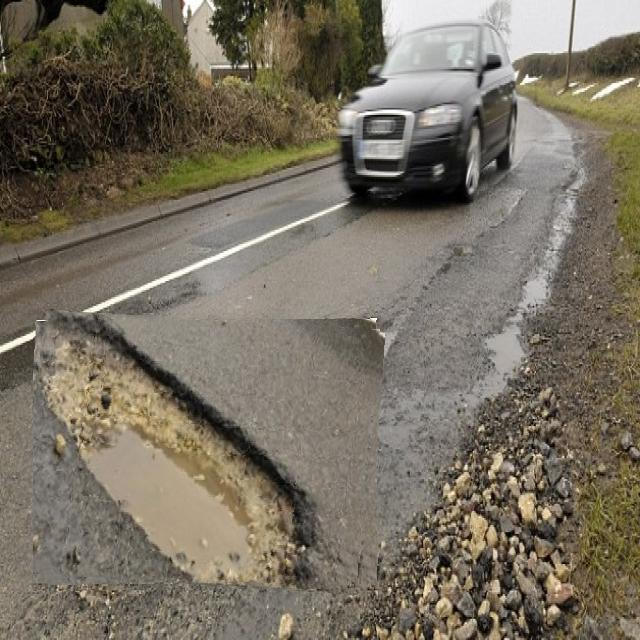Pothole: (33, 315, 381, 591)
